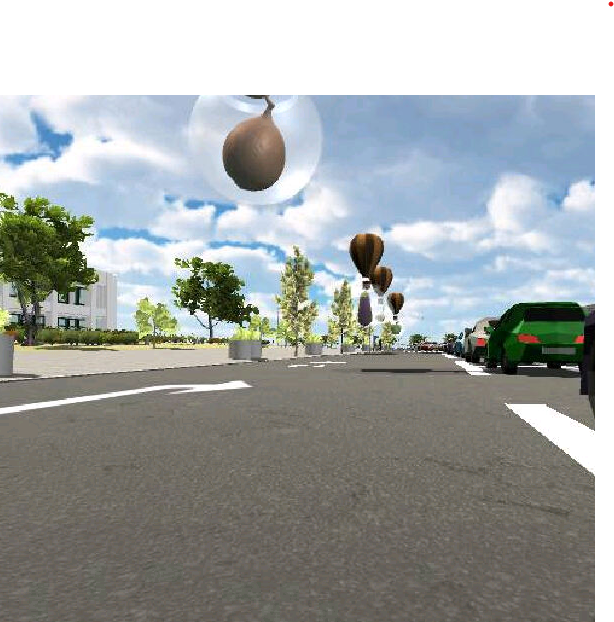ground_right: (121, 375, 254, 397)
